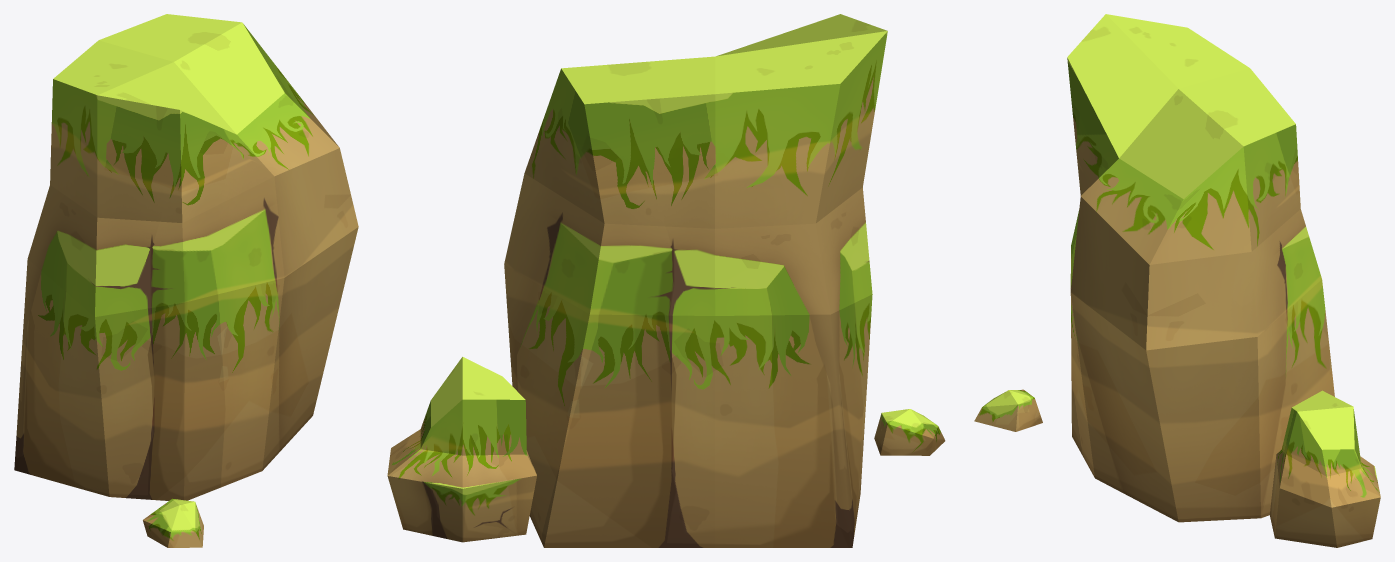
The model's file is F_W_O_rock_007.fbx.
The picture shows the model from 3 angles, left to right: view 1: azimuth 30°, elevation 25°; view 2: azimuth 150°, elevation 25°; view 3: azimuth 270°, elevation 25°; orthographic projection. The views are drawn at different scales.
Parts seen in each view (by area): view 1: F_W_O_rock_007; view 2: F_W_O_rock_007; view 3: F_W_O_rock_007.
Part boxes in pixels (x1=…): F_W_O_rock_007: x1=14, y1=14, x2=358, y2=547; F_W_O_rock_007: x1=387, y1=14, x2=945, y2=547; F_W_O_rock_007: x1=974, y1=14, x2=1380, y2=547.
Bounding box in the file's own units: 7.49 × 8.44 × 7.96.
